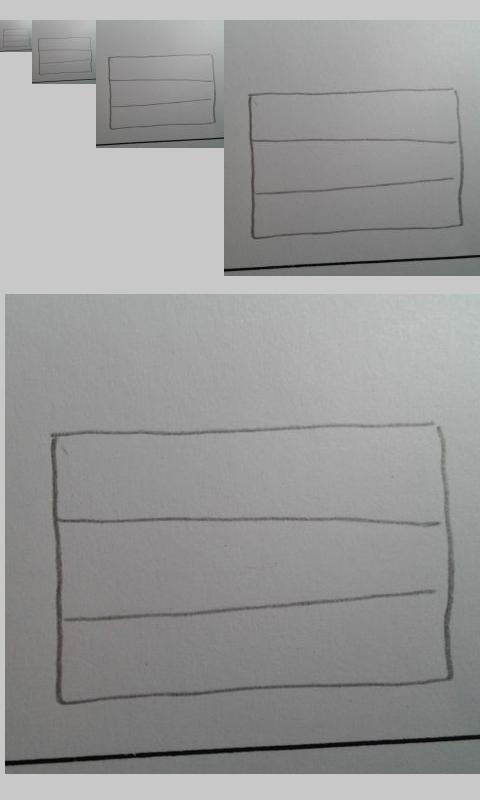list_view: (47, 417, 457, 706), (247, 86, 466, 241), (107, 53, 217, 130), (37, 36, 93, 76), (2, 28, 31, 49)
